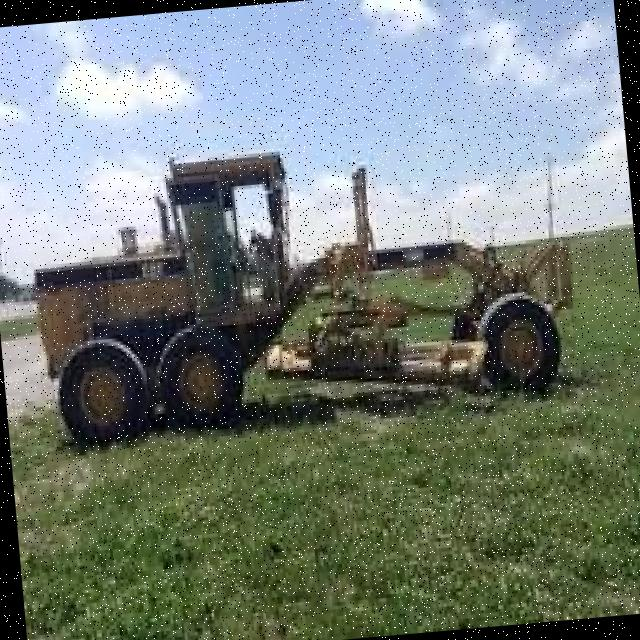Grader: (0, 99, 616, 528)
